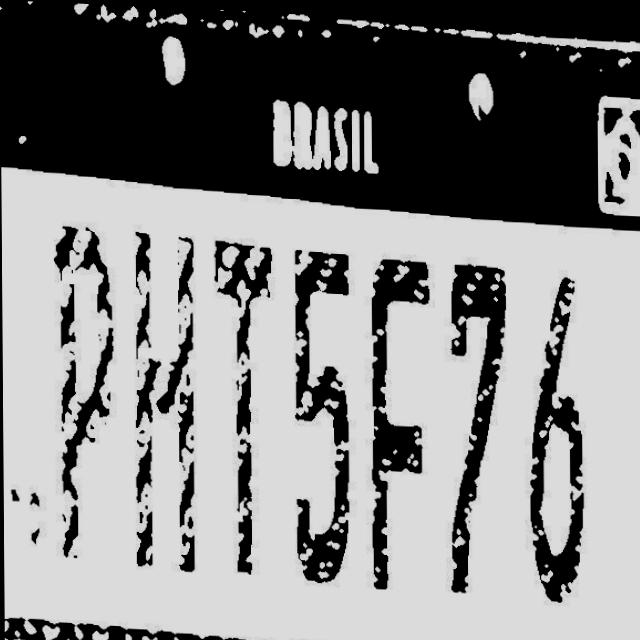5: (289, 245, 361, 580)
6: (521, 274, 597, 602)
7: (444, 240, 523, 567)
f: (363, 247, 439, 583)
h: (123, 224, 208, 567)
p: (45, 224, 115, 554)
t: (207, 240, 287, 570)
